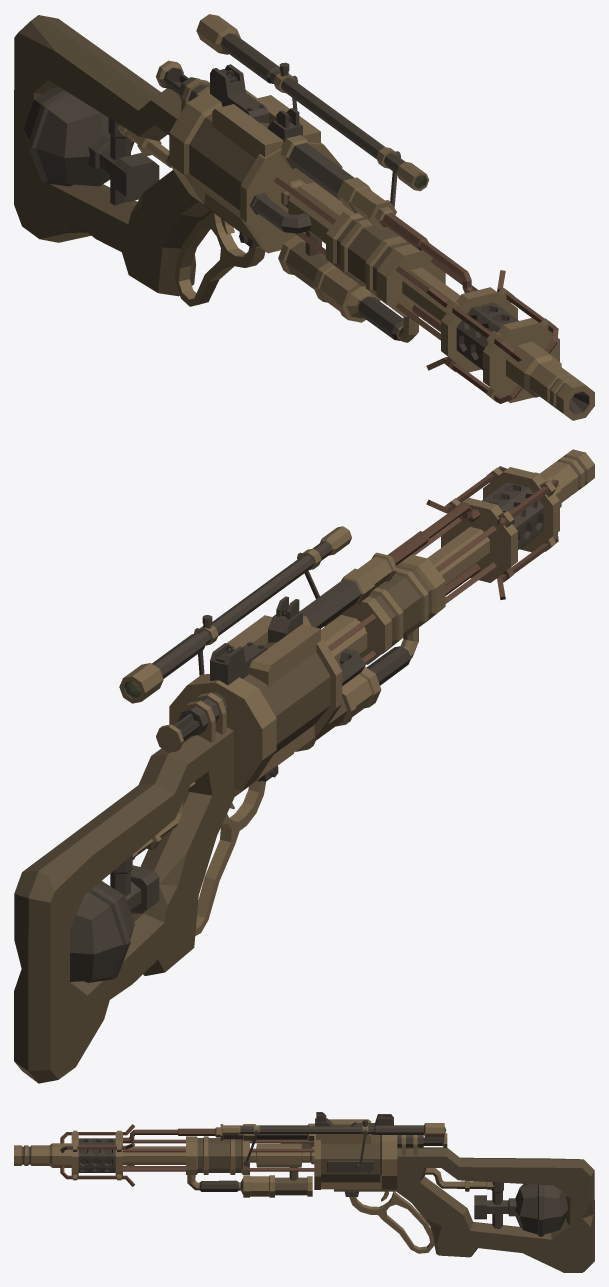
The model's file is Rifle_01.fbx.
3 renders of one model, top to bottom at view 1: azimuth 30°, elevation 25°; view 2: azimuth 150°, elevation 25°; view 3: azimuth 270°, elevation 25°, orthographic. The views are drawn at different scales.
Visible parts, largest first — view 1: Rifle_01, Rifle_01_Lever, Rifle_01_Mag; view 2: Rifle_01, Rifle_01_Lever, Rifle_01_Mag; view 3: Rifle_01, Rifle_01_Lever, Rifle_01_Mag.
Part boxes in pixels (box(x1,y1,x2,y2)): Rifle_01: box(14, 14, 594, 420); Rifle_01_Lever: box(175, 212, 265, 306); Rifle_01_Mag: box(156, 60, 188, 93); Rifle_01: box(14, 449, 594, 1083); Rifle_01_Lever: box(195, 780, 265, 935); Rifle_01_Mag: box(156, 713, 199, 752); Rifle_01: box(14, 1112, 594, 1272); Rifle_01_Lever: box(349, 1191, 434, 1253); Rifle_01_Mag: box(423, 1133, 447, 1147).
Bounding box in the file's own units: 0.1361 × 0.393 × 1.28.
